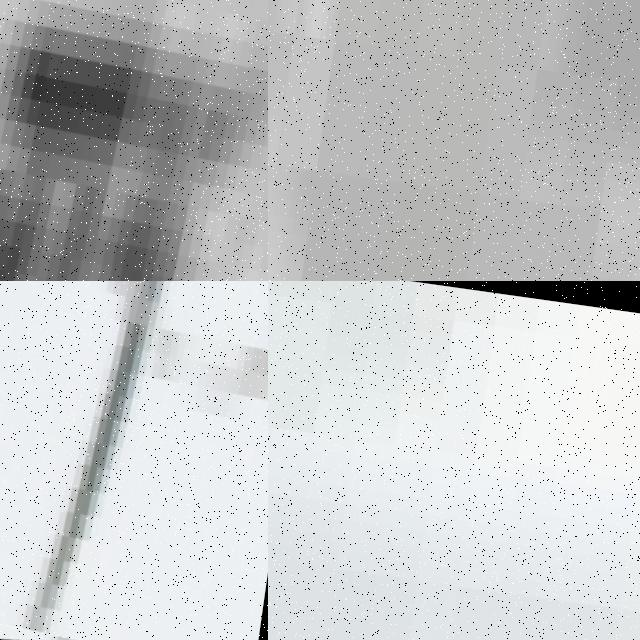drone: (0, 281, 268, 640), (0, 0, 268, 281)
